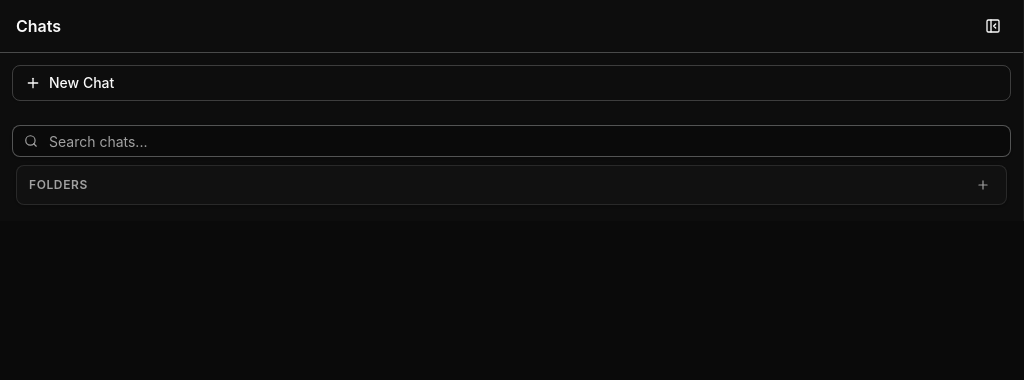
Test case: SessionList › Search › should clear search when clear button clicked
The width and height of the screenshot is (1024, 380).
Type "test" into the search field with placeholder "Search chats...". click: {"x": 512, "y": 141}
box: left=12, top=125, right=1011, bottom=157
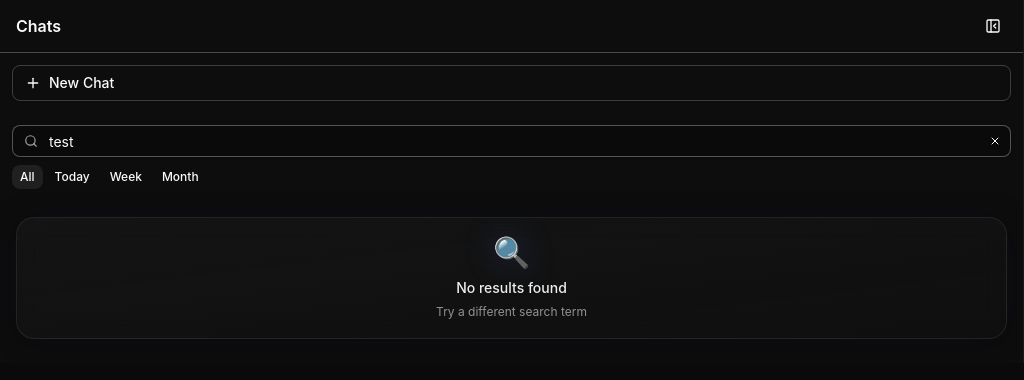
Click the button named "common.clear". click: {"x": 995, "y": 141}
box: left=987, top=133, right=1003, bottom=149
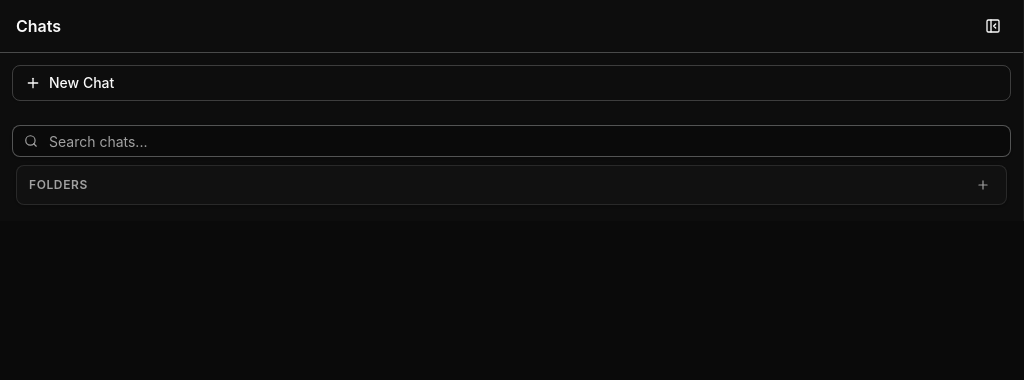
Expected: the search field with placeholder "Search chats..." is empty, left=12, top=125, right=1011, bottom=157
